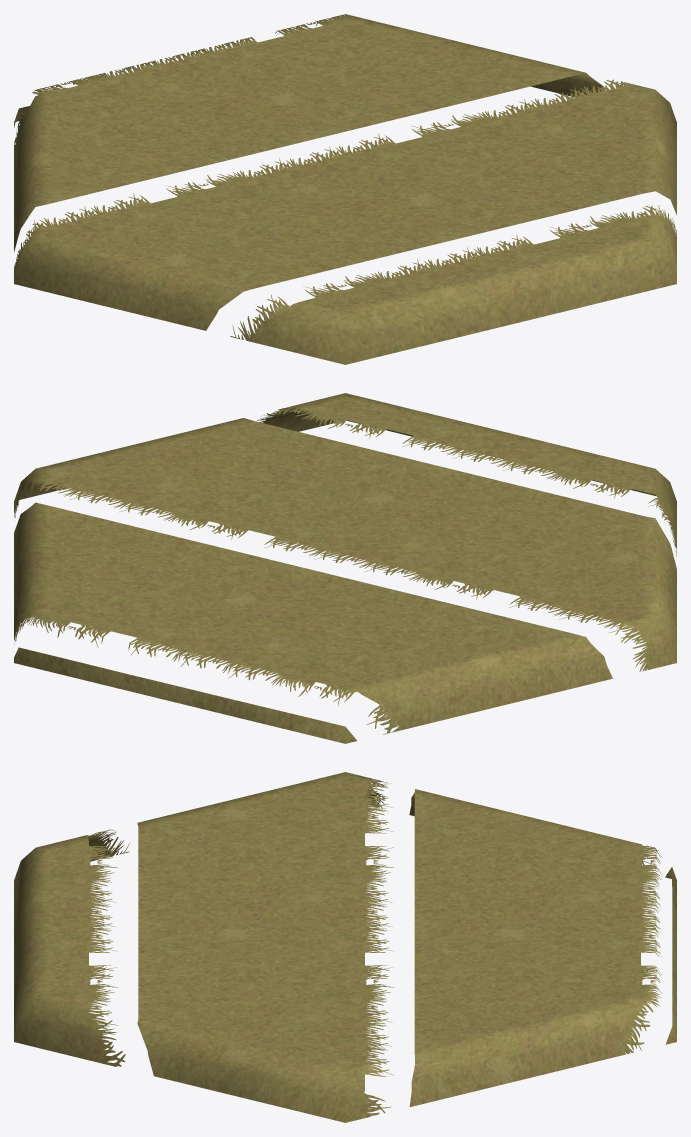
The model's file is Tile_Ground_01.FBX.
The picture shows the model from 3 angles, top to bottom: view 1: azimuth 30°, elevation 25°; view 2: azimuth 150°, elevation 25°; view 3: azimuth 270°, elevation 25°; orthographic projection.
Visible parts, largest first — view 1: Tile_Ground_01; view 2: Tile_Ground_01; view 3: Tile_Ground_01.
Boxes of the visible parts, x1,y1,x2,y2 form: Tile_Ground_01: (14,14,676,364); Tile_Ground_01: (14,393,676,743); Tile_Ground_01: (14,772,676,1122).
Bounding box in the file's own units: 535 × 29.19 × 463.
Materials: 1 (1 with a texture image).
